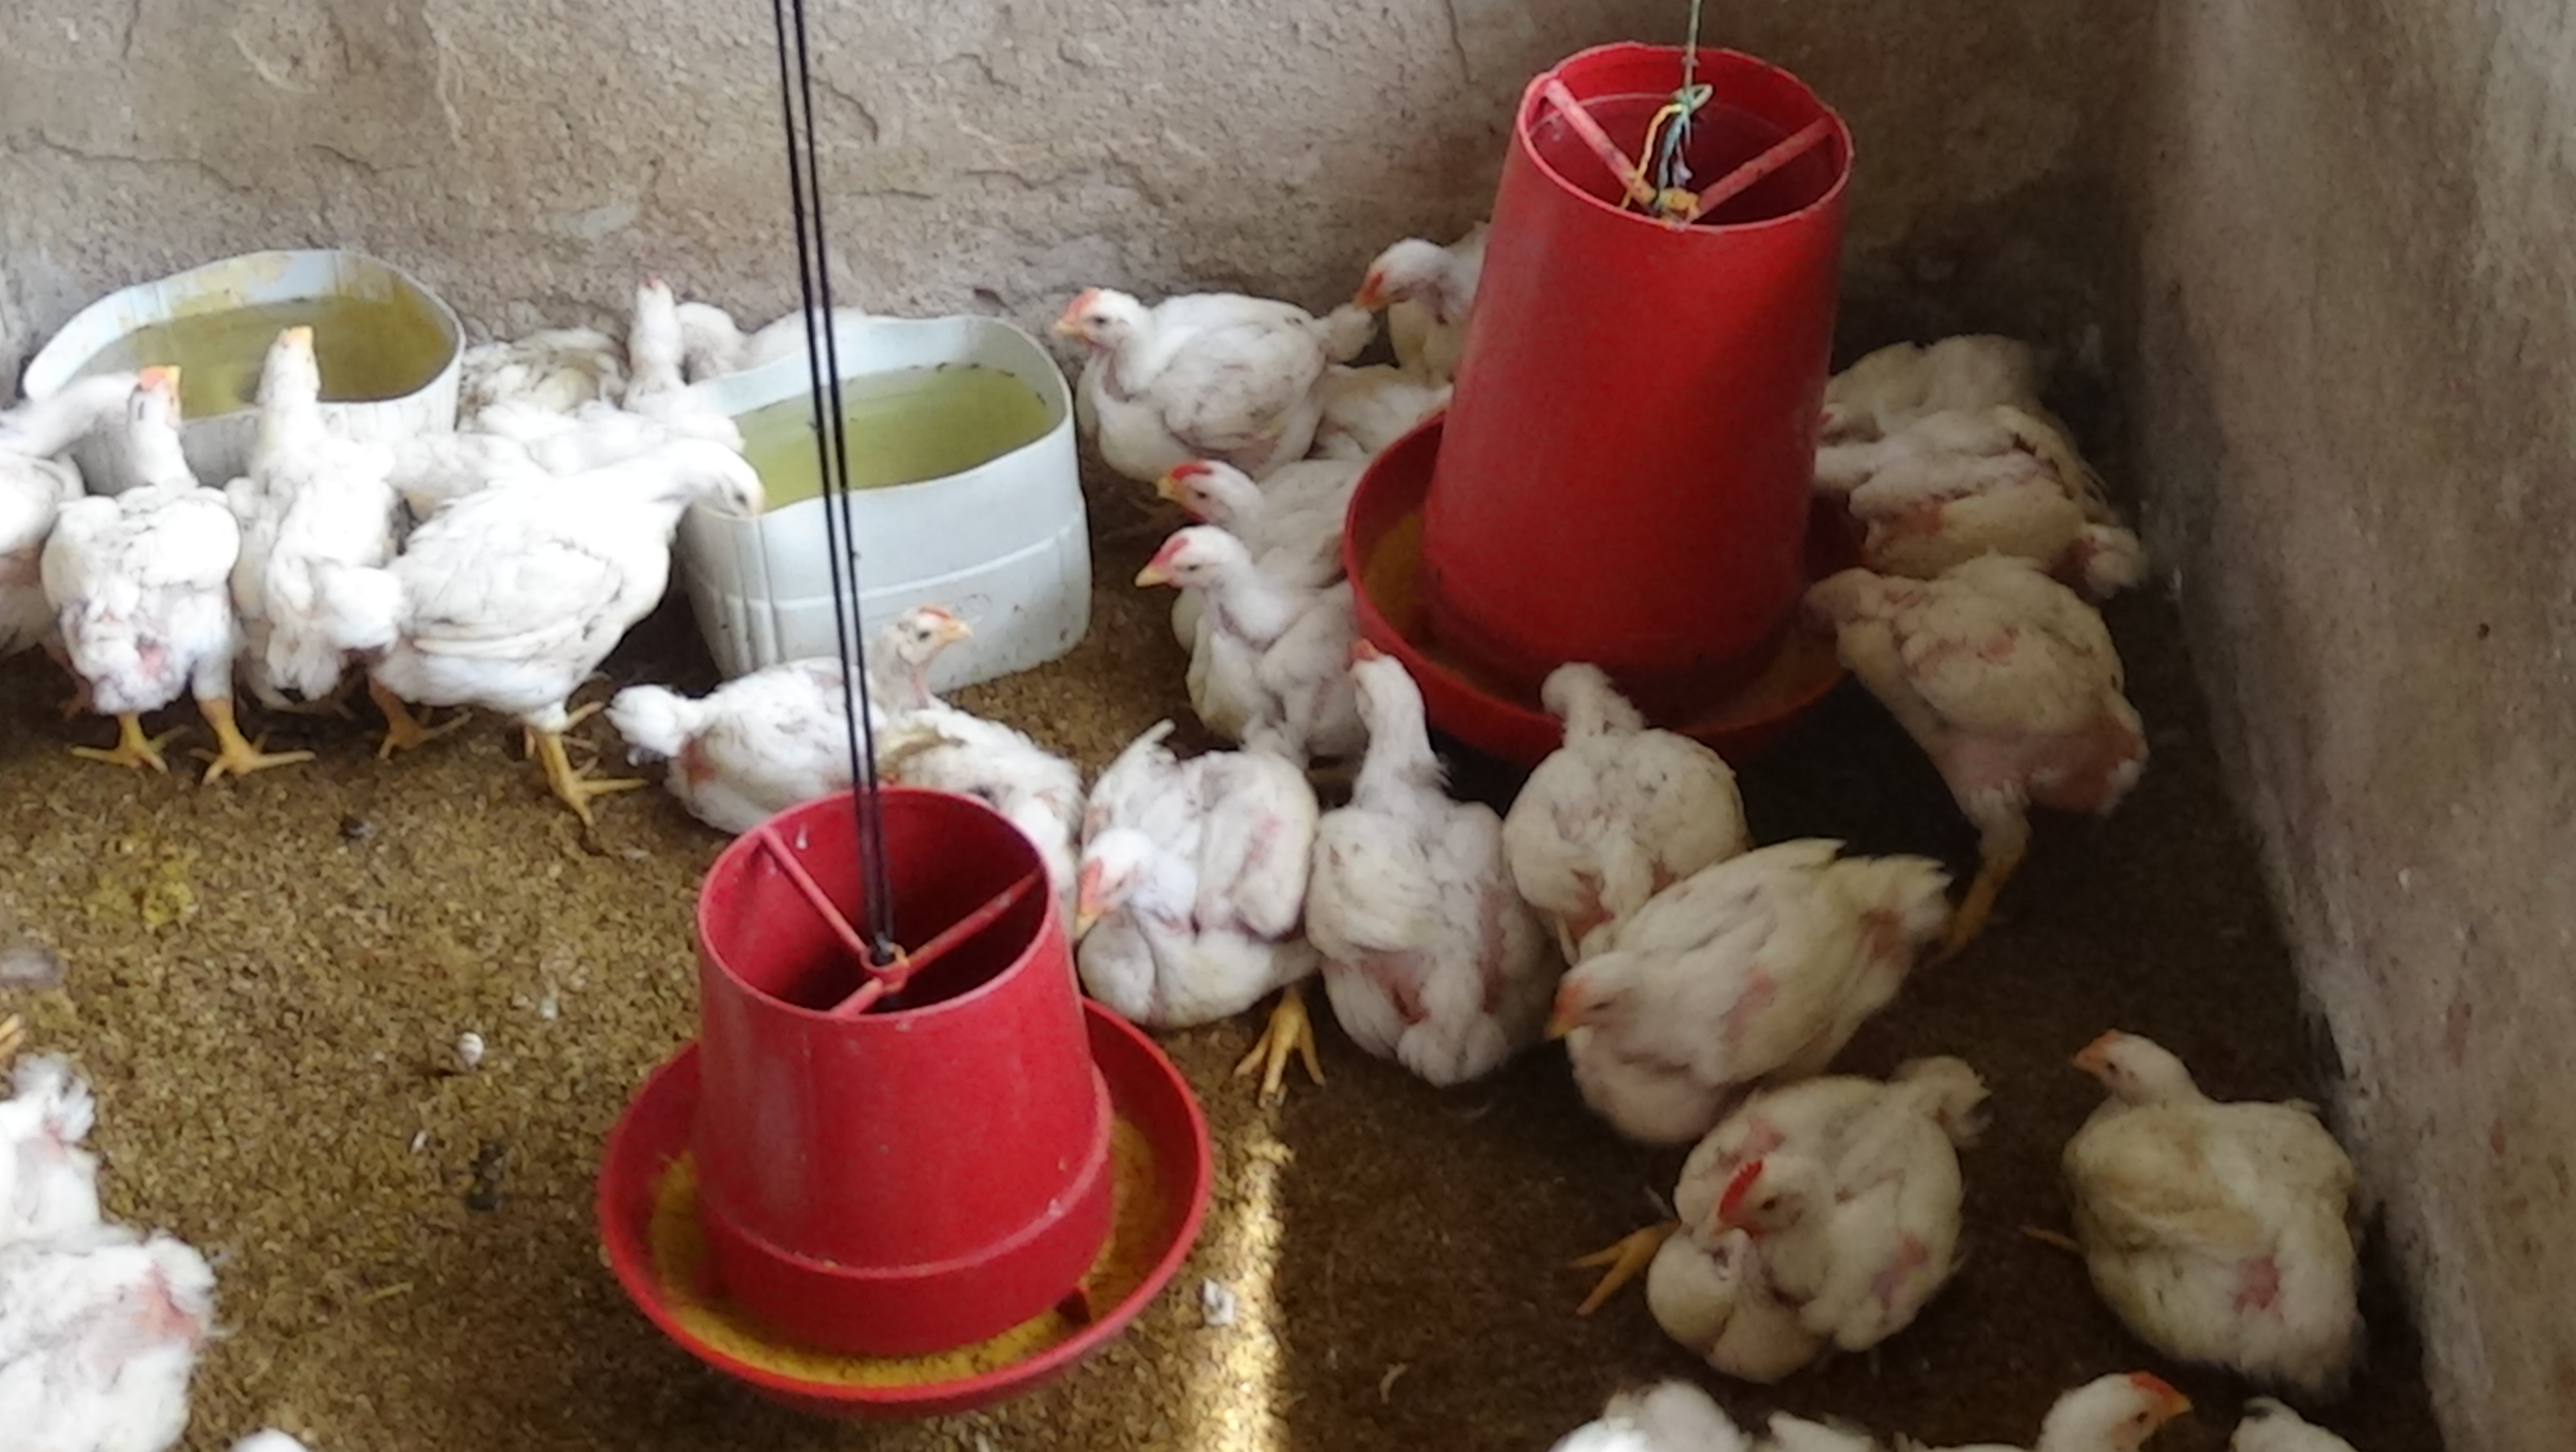Pollos: (1787, 552, 2224, 990), (317, 446, 787, 845), (1596, 1048, 2003, 1376), (2054, 1020, 2410, 1385), (1562, 829, 1939, 1140), (1297, 629, 1555, 1078), (1076, 733, 1359, 1137), (37, 356, 280, 815), (1024, 267, 1362, 505), (612, 604, 984, 818), (1801, 404, 2187, 607), (198, 306, 350, 701), (1516, 625, 1711, 924), (1122, 519, 1355, 747), (1148, 423, 1385, 584), (1359, 182, 1532, 379)
